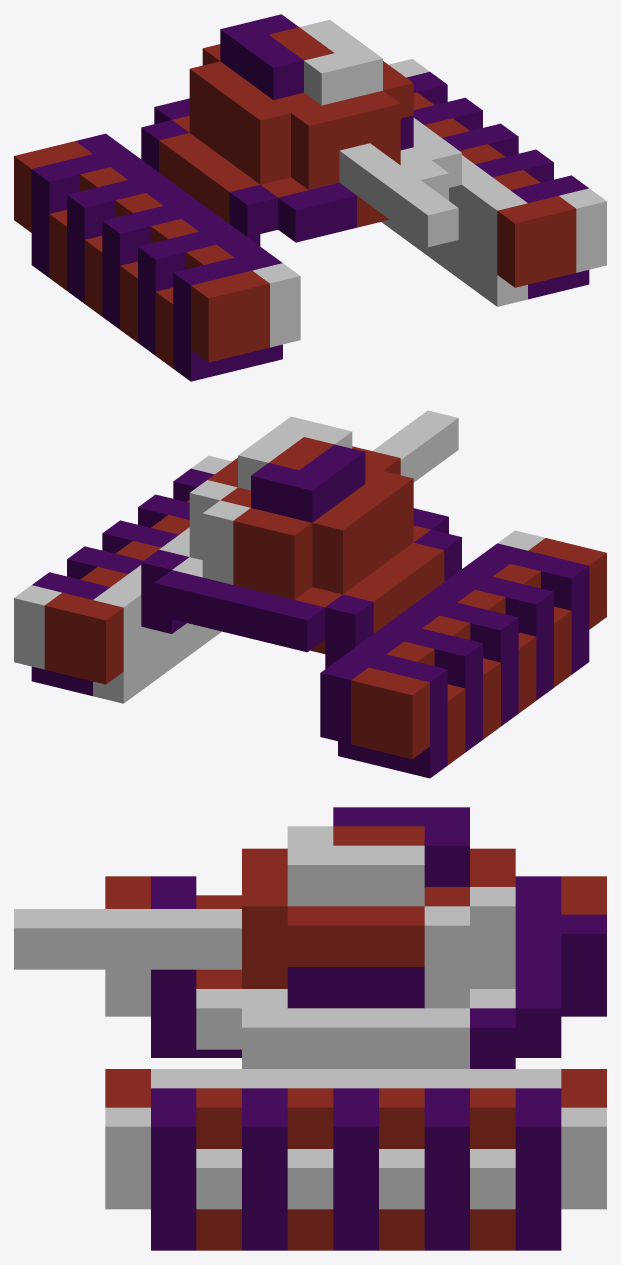
Rendered from fast_red_tank.glb.
3 views of the same model, one above another, from view 1: azimuth 30°, elevation 25°; view 2: azimuth 150°, elevation 25°; view 3: azimuth 270°, elevation 25° (orthographic). The views are drawn at different scales.
Parts seen in each view (by area): view 1: Object_2.011; view 2: Object_2.011; view 3: Object_2.011.
Boxes of the visible parts, x1,y1,x2,y2 form: Object_2.011: [14, 14, 606, 381]; Object_2.011: [14, 410, 606, 778]; Object_2.011: [14, 807, 606, 1250].
Bounding box in the file's own units: 13 × 7 × 13.
Materials: 1 (1 with a texture image).
